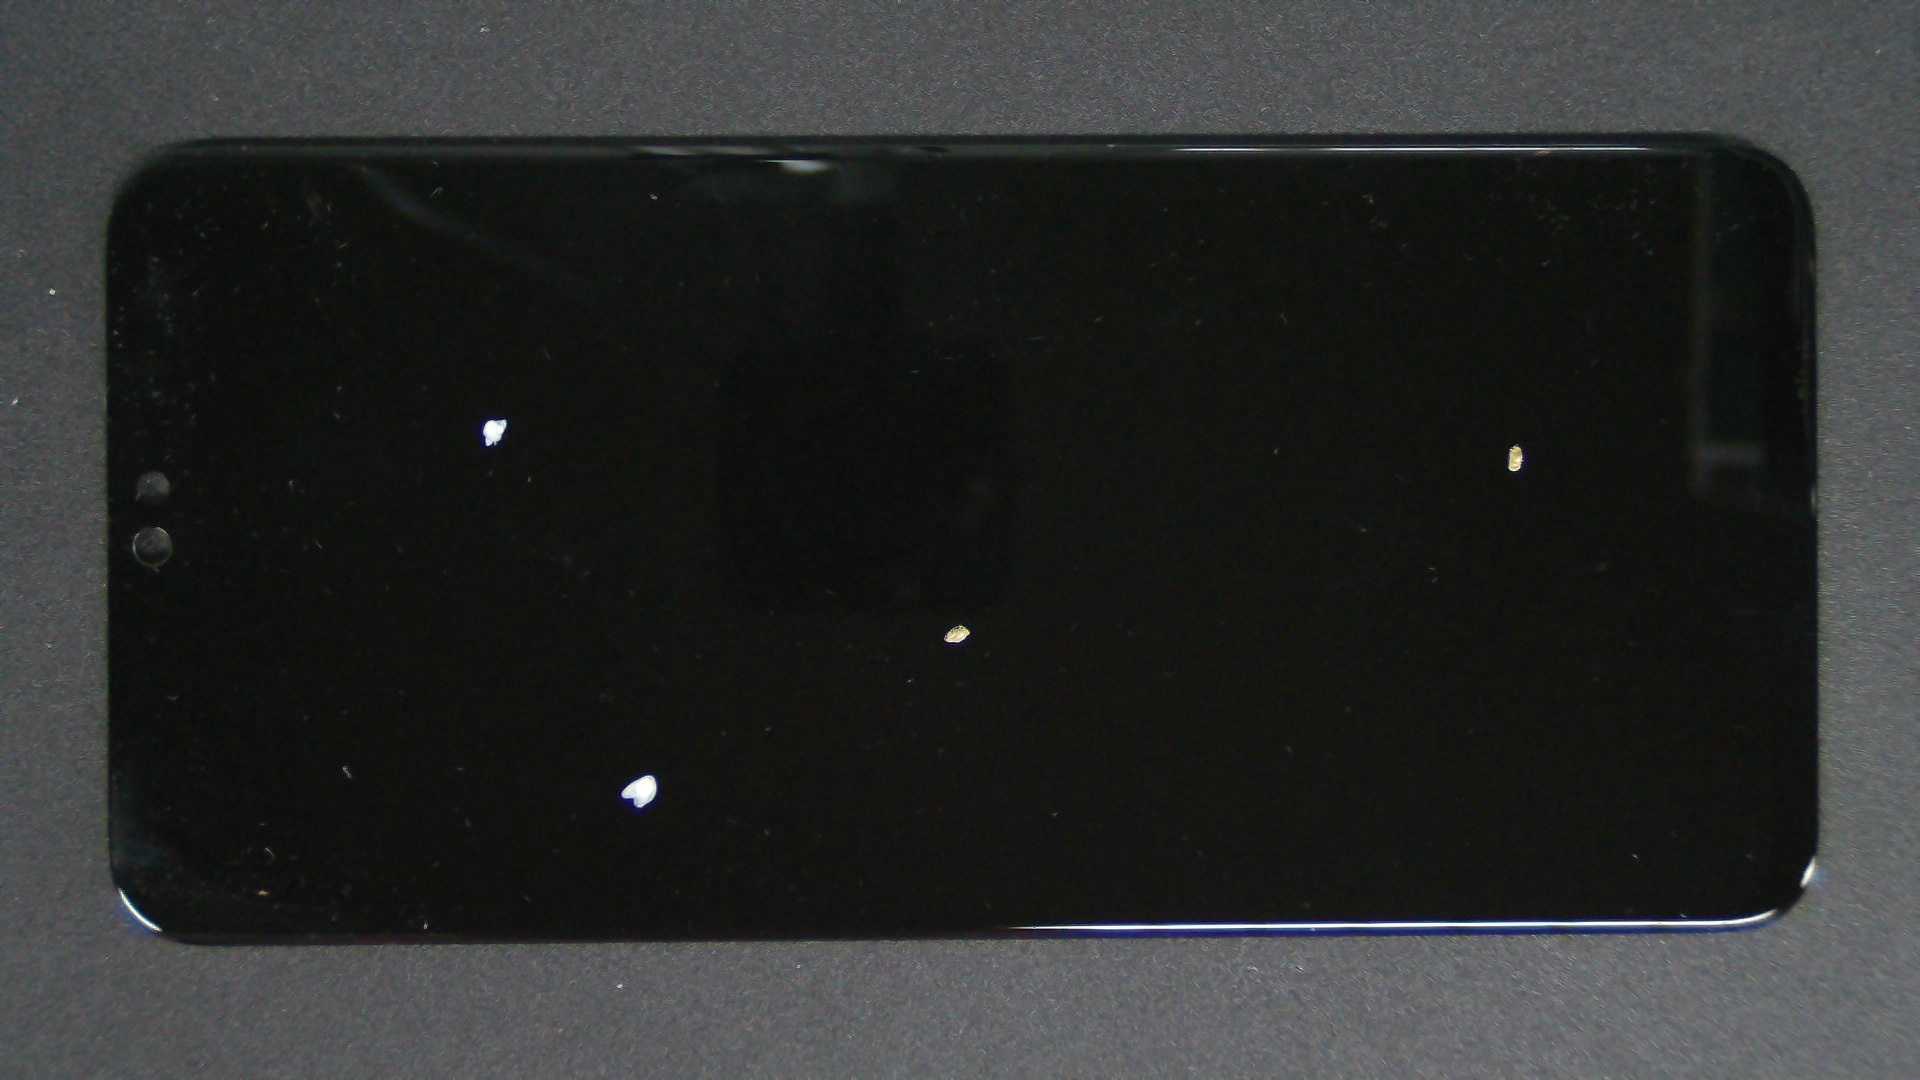oil: (480, 311, 1440, 935), (760, 222, 1920, 665), (324, 386, 972, 1080), (249, 208, 745, 628)
